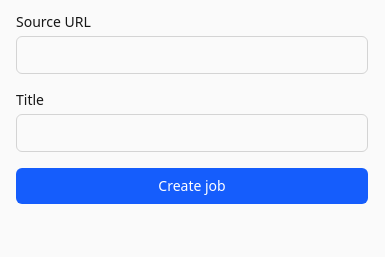
Test case: CreateJobForm › shows a generic error when job creation fails
The image size is (385, 257).
Type "https://cdn.example.com/videos/my-video.mp4" into the field labelled "Source URL" at (192, 55), box [16,36,368,74]
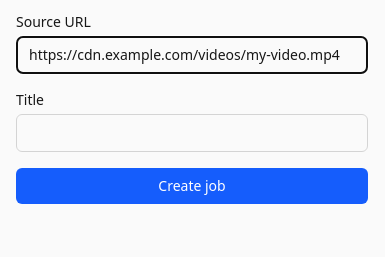
Click the button "Create job" at (192, 186), box [16,168,368,204]
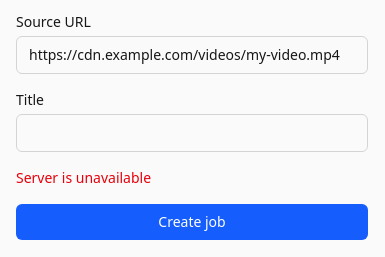
Expected: the text "Server is unavailable" is shown, [16,168,151,187]
